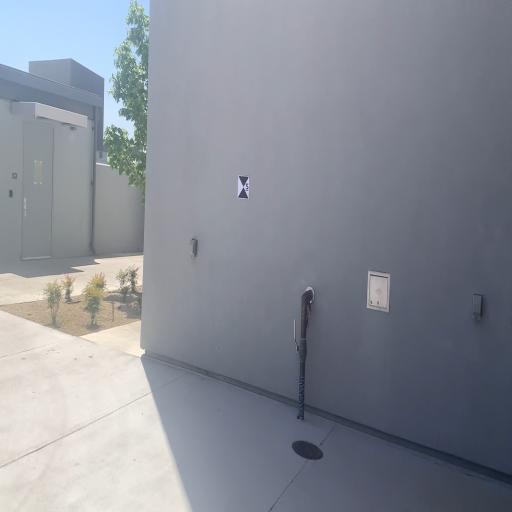target5: (238, 175, 250, 199)
